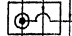Single Phase Tap-Off Unit: (1, 0, 63, 35)
